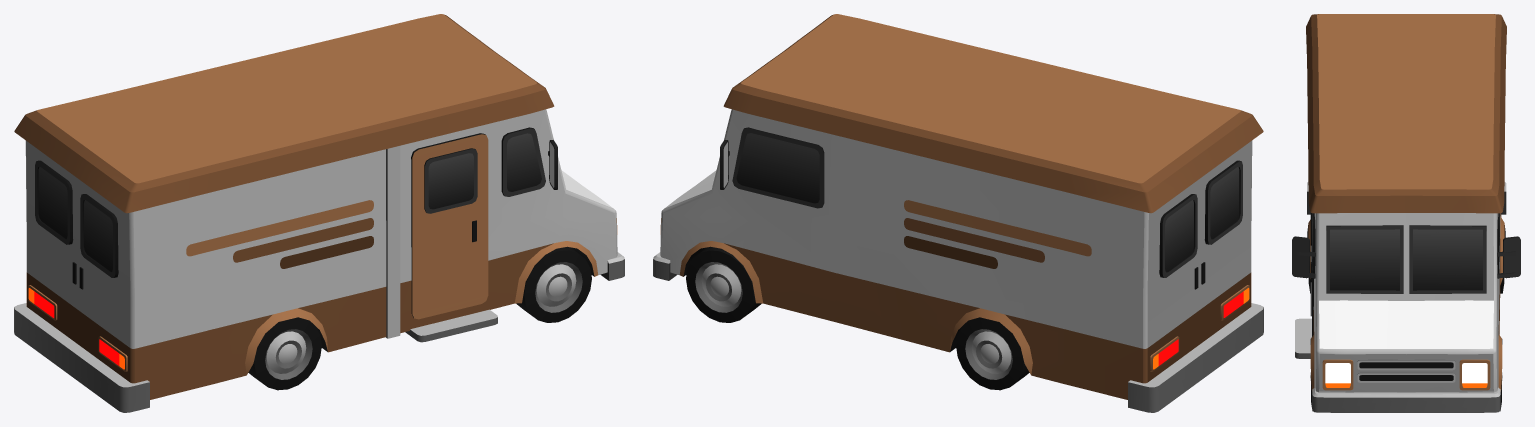
The model's file is Truck_025.glb.
3 renders of one model, left to right at view 1: azimuth 30°, elevation 25°; view 2: azimuth 150°, elevation 25°; view 3: azimuth 270°, elevation 25°, orthographic. The views are drawn at different scales.
Parts seen in each view (by area): view 1: Truck_025, wheel_1_Truck_025_Wheel_1R, wheel_3_Truck_025_Wheel_2R; view 2: Truck_025, wheel_0_Truck_025_Wheel_1L, wheel_2_Truck_025_Wheel_2L; view 3: Truck_025.
Boxes of the visible parts, x1,y1,x2,y2 form: Truck_025: (14, 14, 624, 412); wheel_1_Truck_025_Wheel_1R: (516, 246, 591, 322); wheel_3_Truck_025_Wheel_2R: (248, 317, 321, 390); Truck_025: (653, 14, 1263, 412); wheel_0_Truck_025_Wheel_1L: (686, 246, 761, 322); wheel_2_Truck_025_Wheel_2L: (956, 317, 1029, 390); Truck_025: (1292, 14, 1520, 412).
Size of the model in its own units: 5.39 by 2.42 by 2.36.
Materials: 2 (2 with a texture image).
